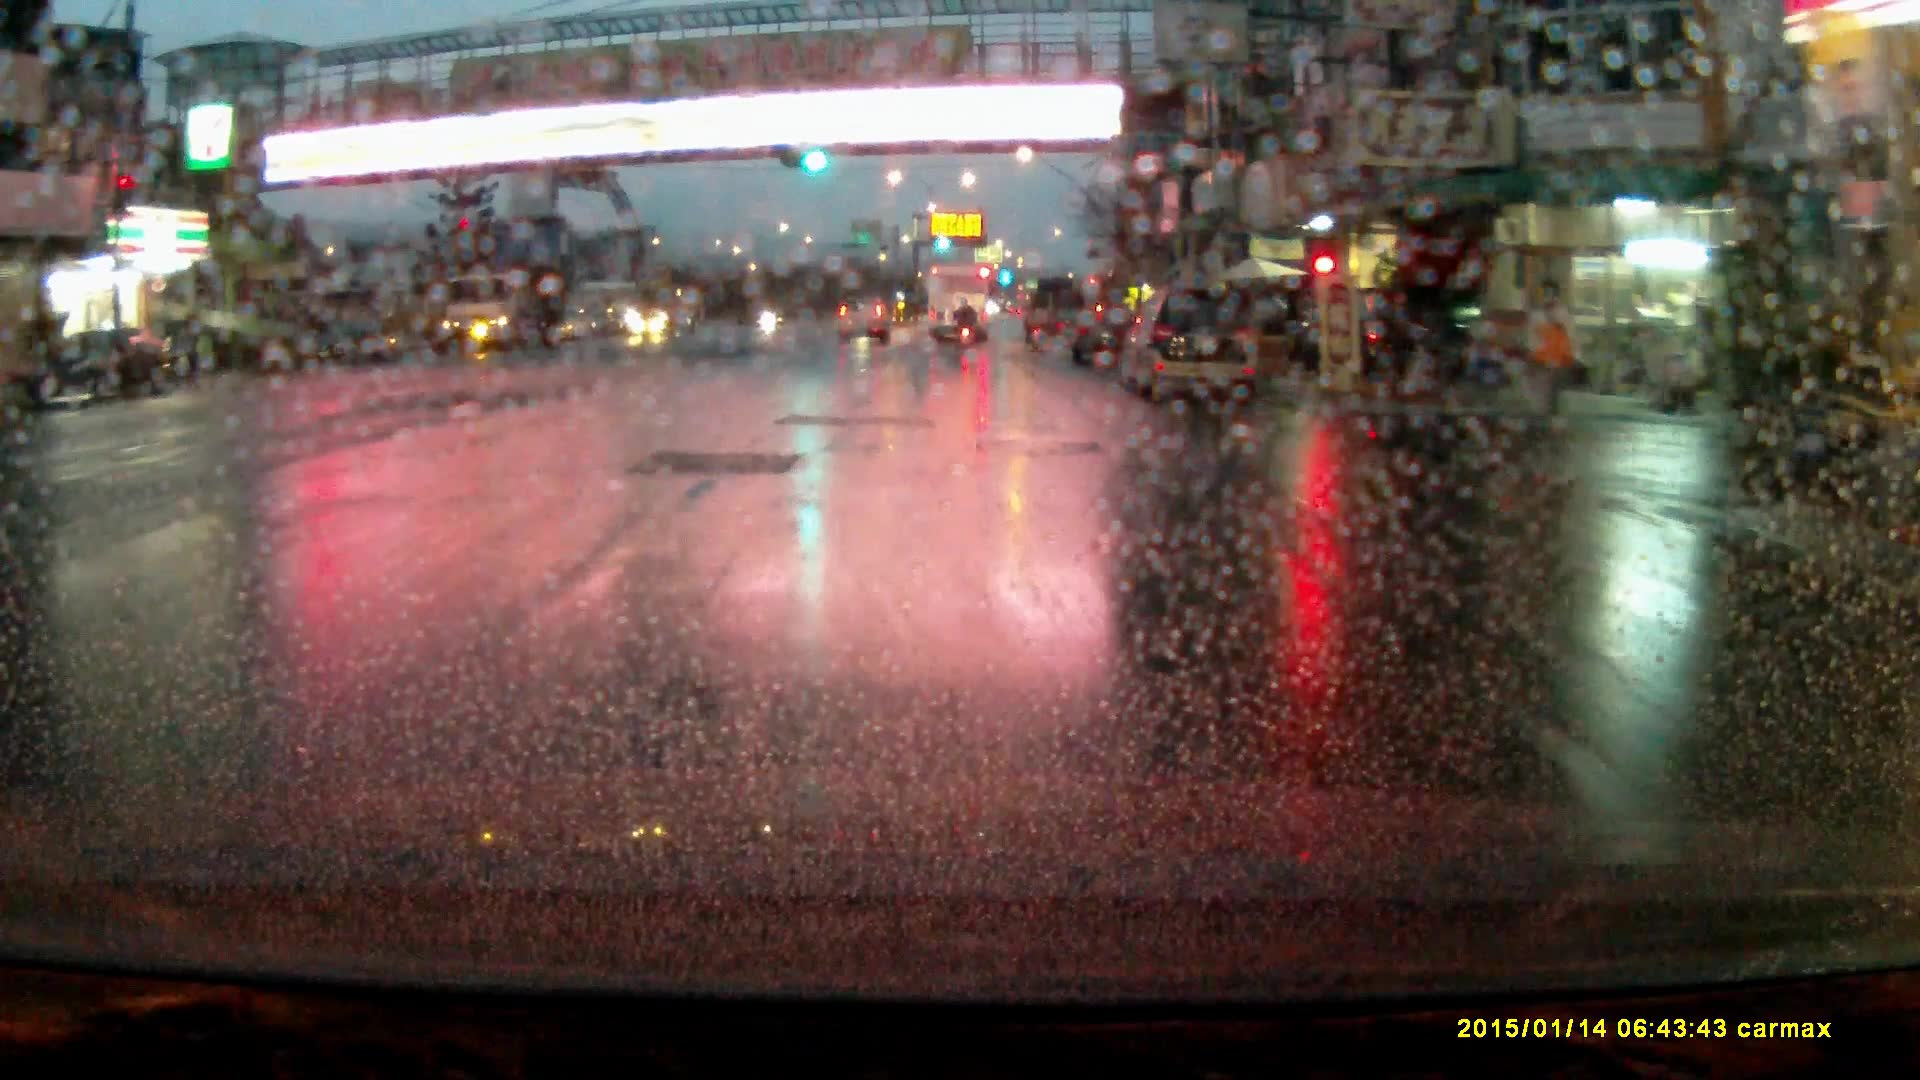pedestrian: (1517, 276, 1582, 460)
rider: (954, 292, 980, 351)
vehicle: (1120, 284, 1259, 400), (23, 324, 166, 408), (1364, 283, 1487, 376), (436, 264, 555, 351), (928, 260, 988, 336), (626, 284, 694, 333), (839, 293, 893, 342)
